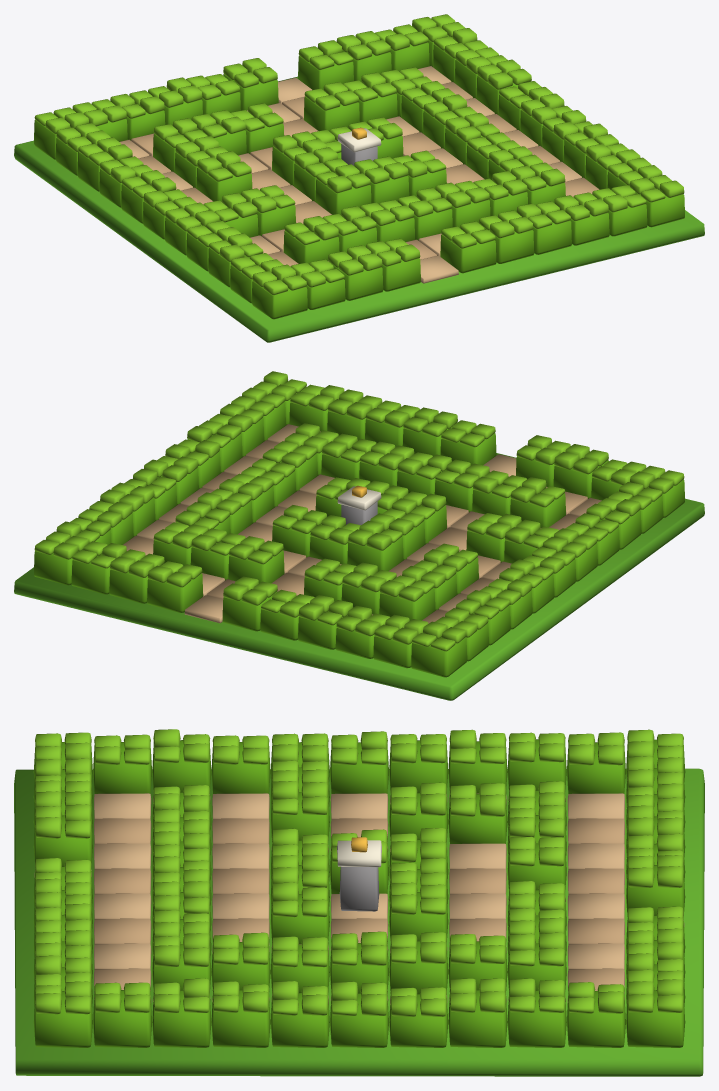
The model's file is OBJ15_maze_garden.glb.
The picture shows the model from 3 angles, top to bottom: view 1: azimuth 30°, elevation 25°; view 2: azimuth 150°, elevation 25°; view 3: azimuth 270°, elevation 25°; orthographic projection. The views are drawn at different scales.
Visible parts, largest first — view 1: HedgeLeaves, Hedges, BaseSlab, SandPathB, SandPathA, GoalTop; view 2: HedgeLeaves, Hedges, BaseSlab, SandPathB, SandPathA, GoalTop, GoalPedestal; view 3: HedgeLeaves, Hedges, BaseSlab, SandPathA, SandPathB, GoalPedestal, GoalTop.
Boxes of the visible parts, x1,y1,x2,y2 form: HedgeLeaves: (34, 14, 684, 295); Hedges: (34, 35, 684, 319); BaseSlab: (14, 76, 704, 342); SandPathB: (131, 82, 599, 266); SandPathA: (119, 66, 581, 283); GoalTop: (337, 128, 381, 152); HedgeLeaves: (34, 371, 684, 651); Hedges: (34, 387, 684, 677); BaseSlab: (14, 453, 704, 700); SandPathB: (123, 440, 587, 623); SandPathA: (137, 424, 601, 623); GoalTop: (337, 486, 381, 510); GoalPedestal: (341, 501, 377, 524); HedgeLeaves: (35, 729, 683, 1016); Hedges: (33, 739, 685, 1047); BaseSlab: (14, 768, 704, 1076); SandPathA: (34, 793, 684, 1002); SandPathB: (94, 794, 624, 1004); GoalPedestal: (339, 867, 379, 911); GoalTop: (337, 840, 381, 867).
Bounding box in the file's own units: 2.45 × 0.365 × 2.45.
